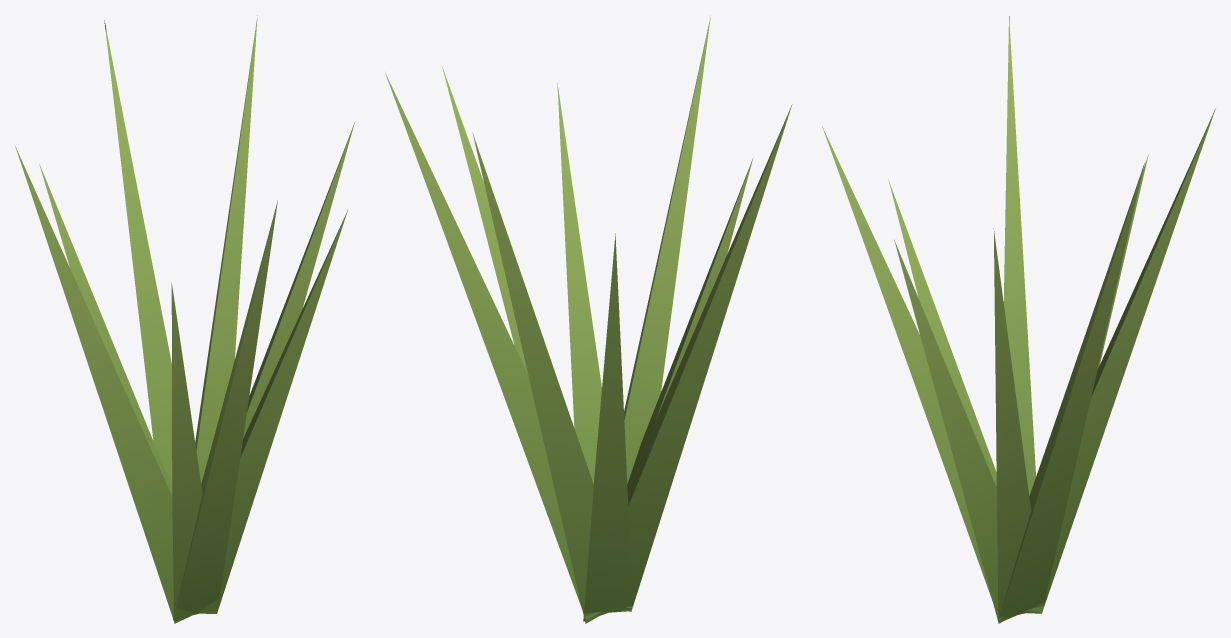
Rendered from grass.glb.
3 renders of one model, left to right at view 1: azimuth 30°, elevation 25°; view 2: azimuth 150°, elevation 25°; view 3: azimuth 270°, elevation 25°, orthographic. The views are drawn at different scales.
Visible parts, largest first — view 1: grass_1; view 2: grass_1; view 3: grass_1.
Boxes of the visible parts, <box> form: grass_1: <box>15,15,355,623</box>; grass_1: <box>385,15,792,623</box>; grass_1: <box>822,16,1215,623</box>.
Size of the model in its own units: 0.8921 by 1.33 by 0.9164.
1 material, 1 textured.
